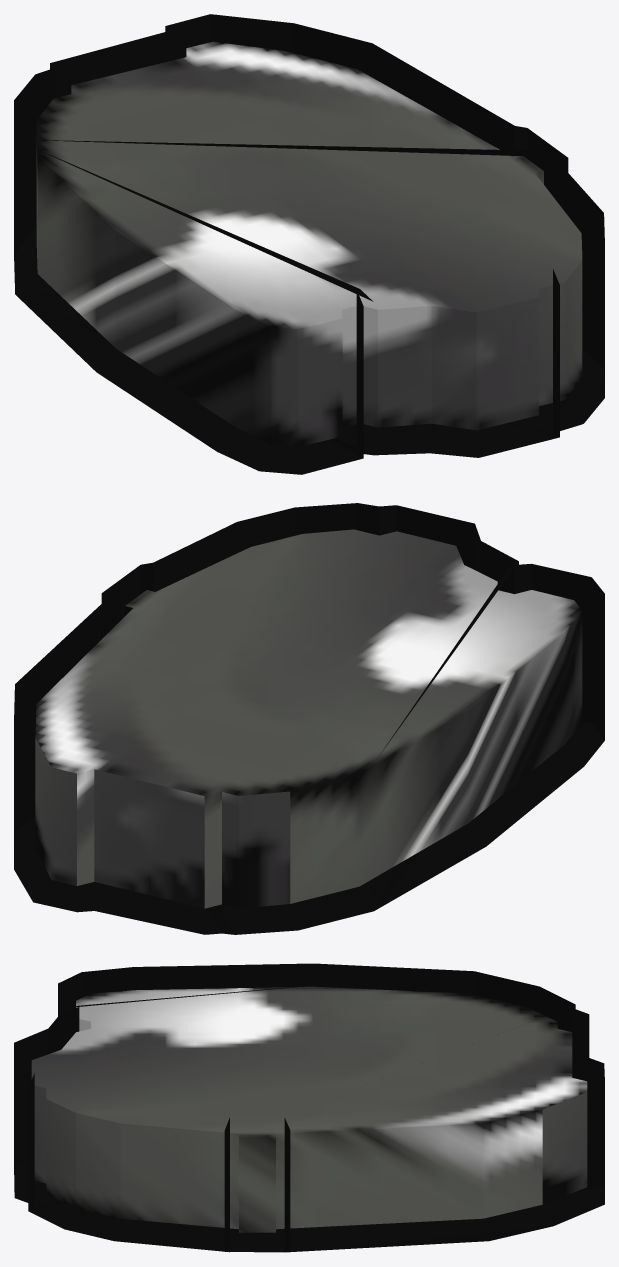
The model's file is Building_MechGestator_Things_Pawn_Mechanoid_HalfGestatedMechSmall.glb.
3 renders of one model, top to bottom at view 1: azimuth 30°, elevation 25°; view 2: azimuth 150°, elevation 25°; view 3: azimuth 270°, elevation 25°, orthographic. The views are drawn at different scales.
Visible parts, largest first — view 1: Body, Outline; view 2: Body, Outline; view 3: Body, Outline.
Part boxes in pixels (x1,y1,x2,y2): Body: (36,41,582,447); Outline: (14,14,604,474); Body: (35,529,582,908); Outline: (14,503,604,934); Body: (31,986,587,1232); Outline: (14,963,604,1252).
Bounding box in the file's own units: 0.7328 × 0.2815 × 1.11.
Materials: 2 (1 with a texture image).
